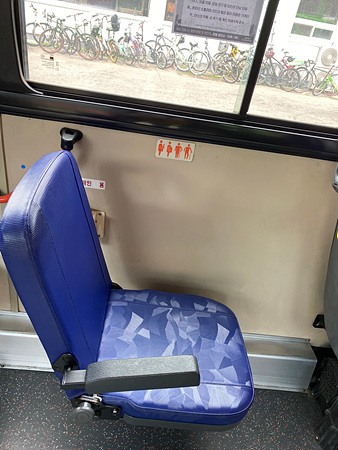seat: (5, 152, 258, 434)
